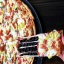pizza: (1, 1, 35, 64)
